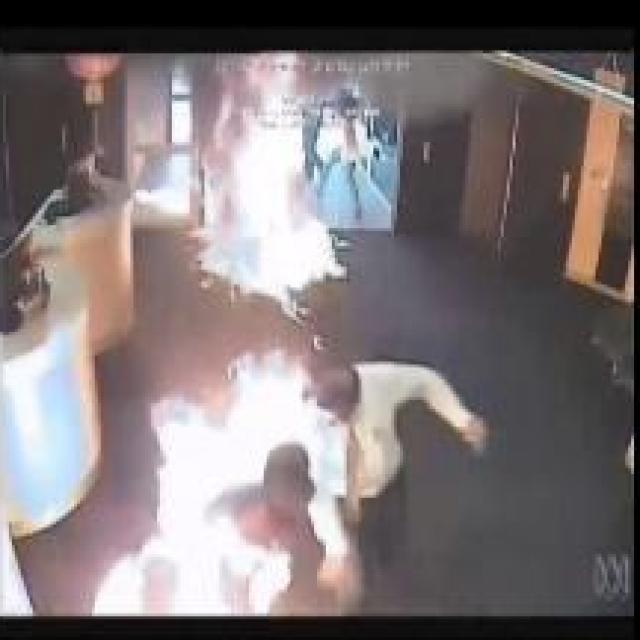smoke: (88, 356, 356, 616), (192, 50, 350, 311)
